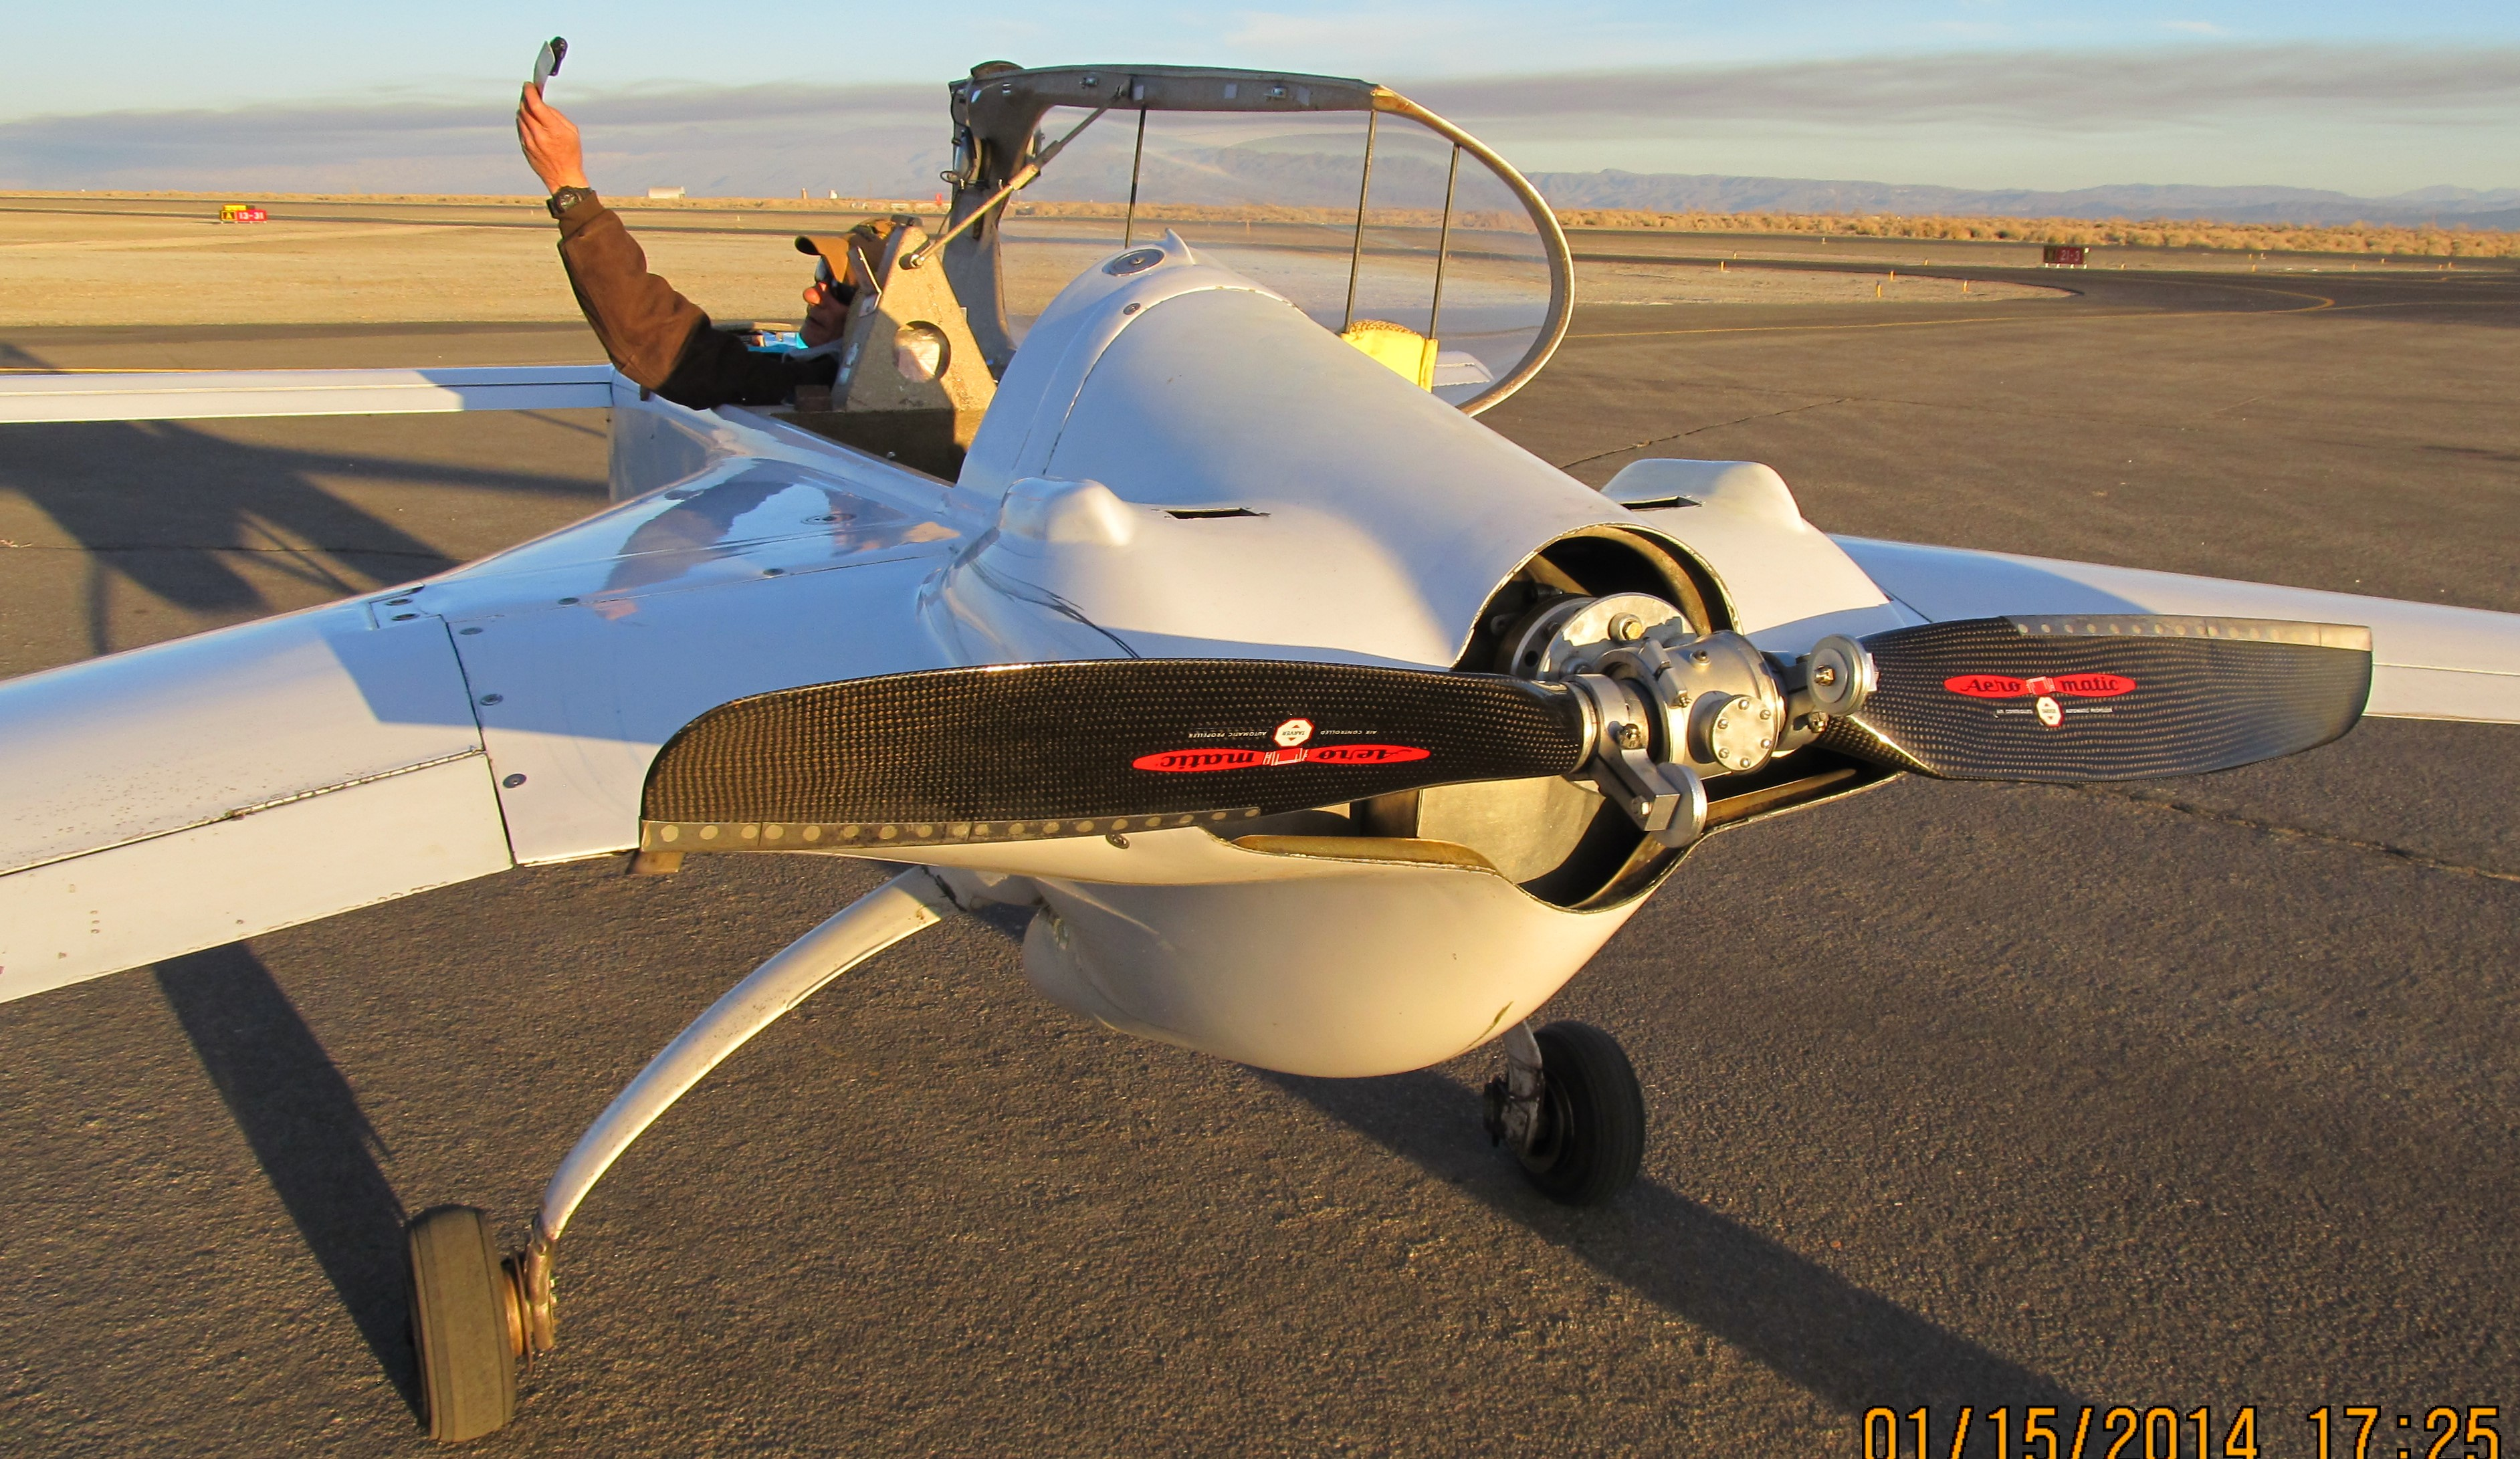Propeller: (570, 587, 2411, 914)
